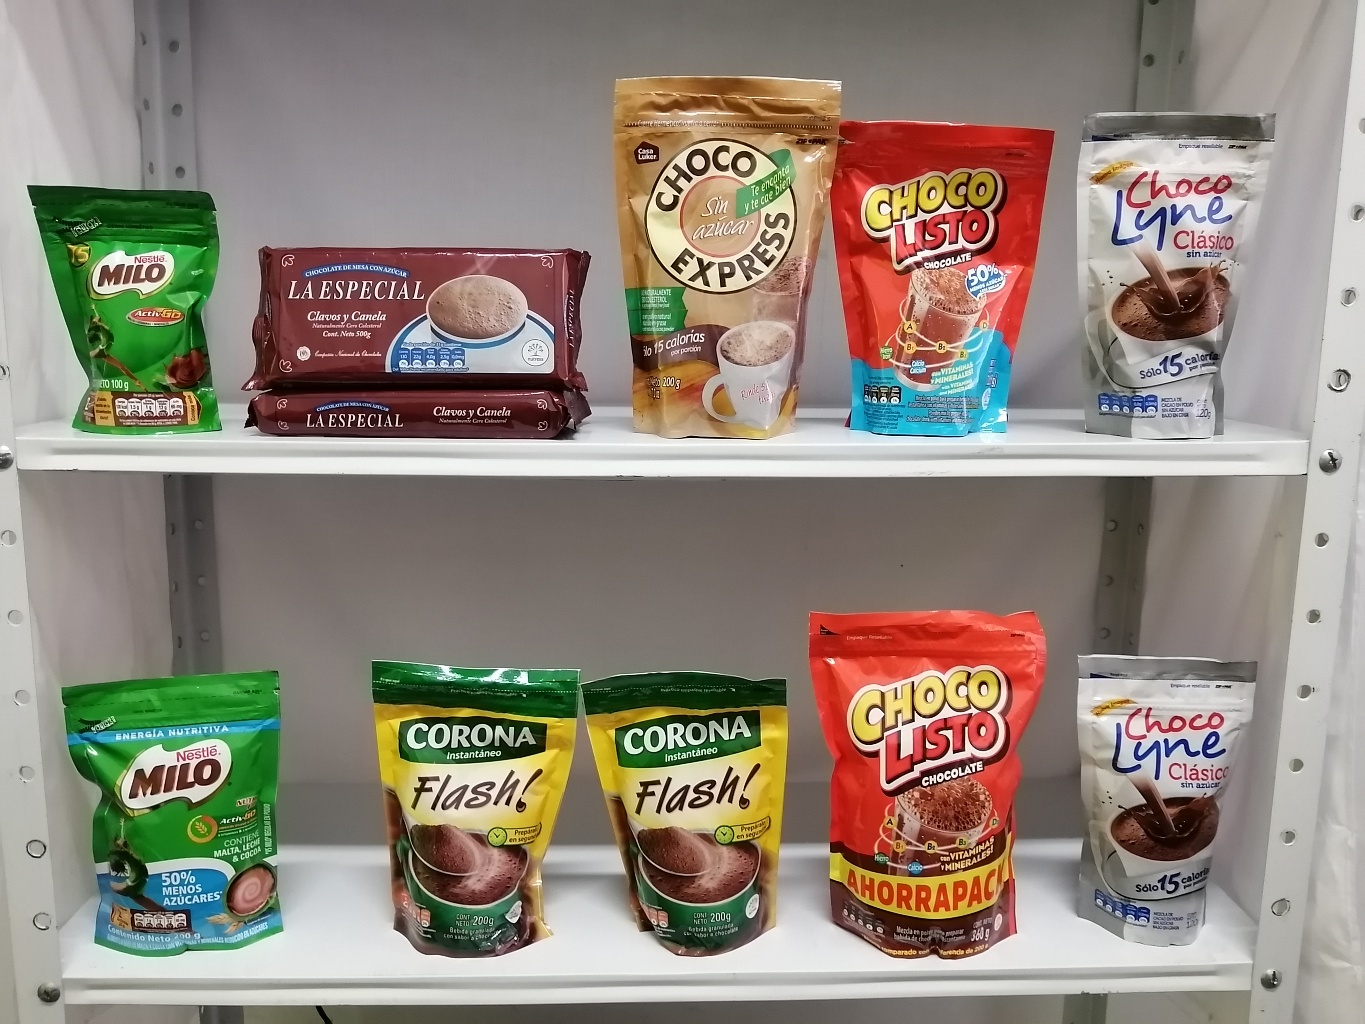COL0170103DYP36000: (800, 598, 1069, 968)
COL0170104DYP20000: (829, 115, 1068, 444)
COL0170203DYP10000: (23, 180, 234, 439)
COL0170205DYP20000: (56, 644, 309, 959)
